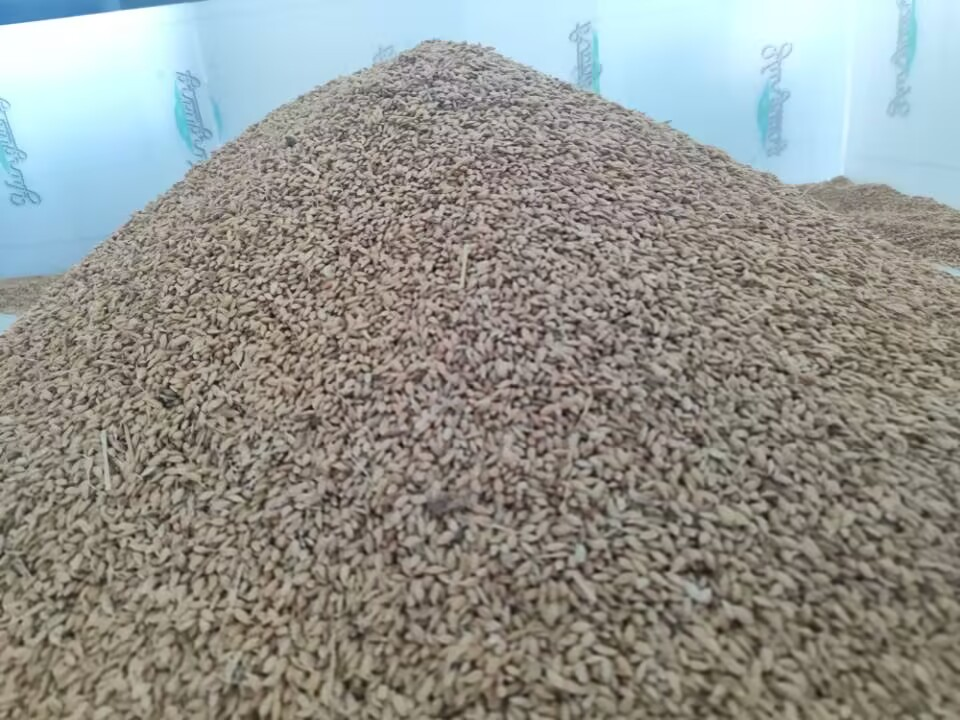Grain: (81, 24, 902, 570)
